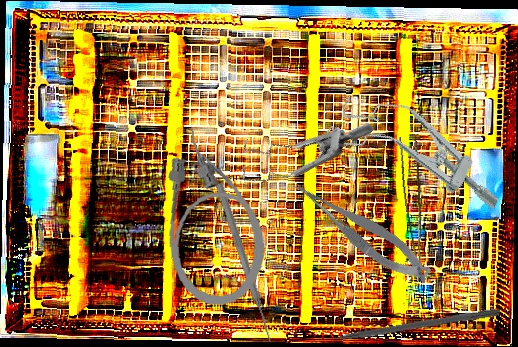Cannula: (159, 123, 270, 310)
Micro Scissor: (288, 163, 437, 297)
Pusher: (213, 182, 276, 343), (310, 306, 501, 346)
Speculum: (323, 79, 518, 222), (225, 69, 375, 223)
Tissue Forceps: (394, 134, 439, 282)
